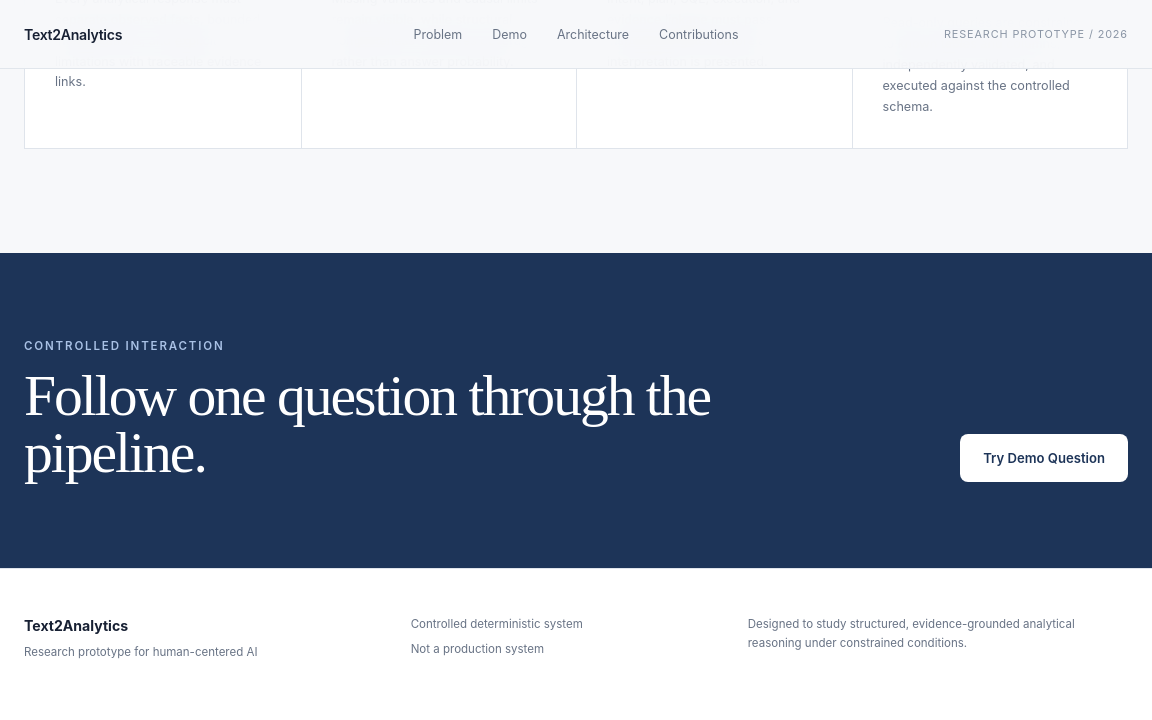
Test: Text2Analytics portfolio page › reveals every required deterministic output
(page scrolled)
Click the button "Try Demo Question": (1044, 458) left=960, top=434, right=1128, bottom=482
(page scrolled)
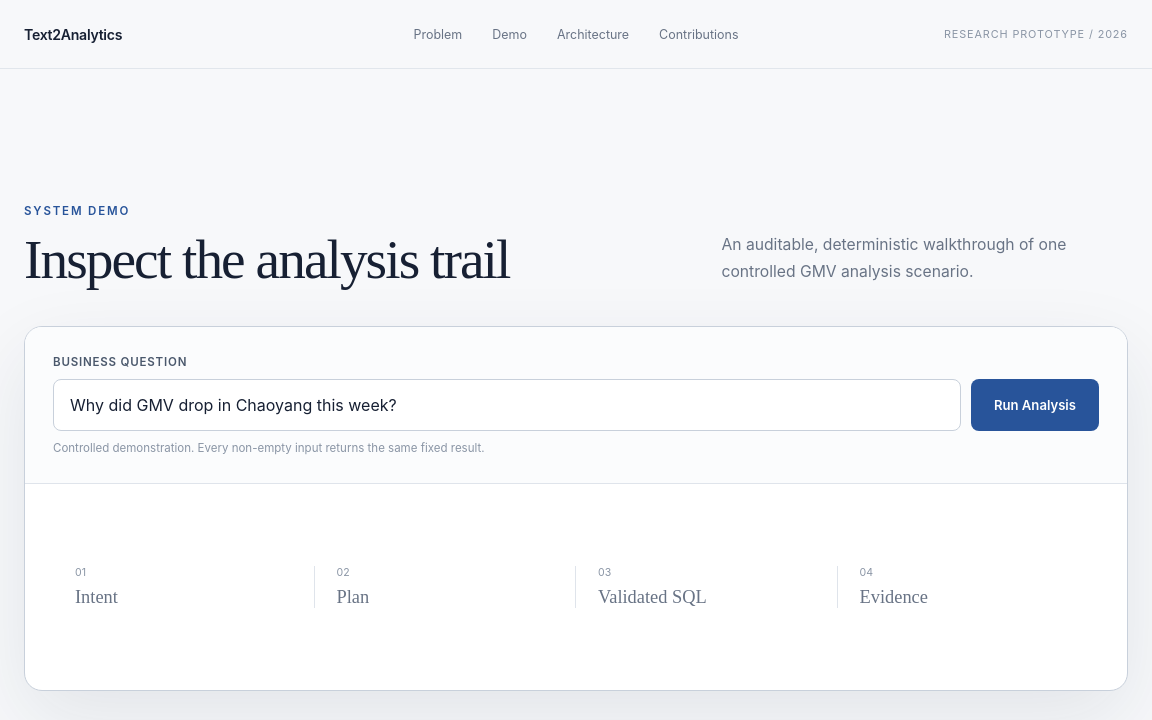
Click the button "Run Analysis": (1035, 405) left=971, top=379, right=1099, bottom=431
(page scrolled)
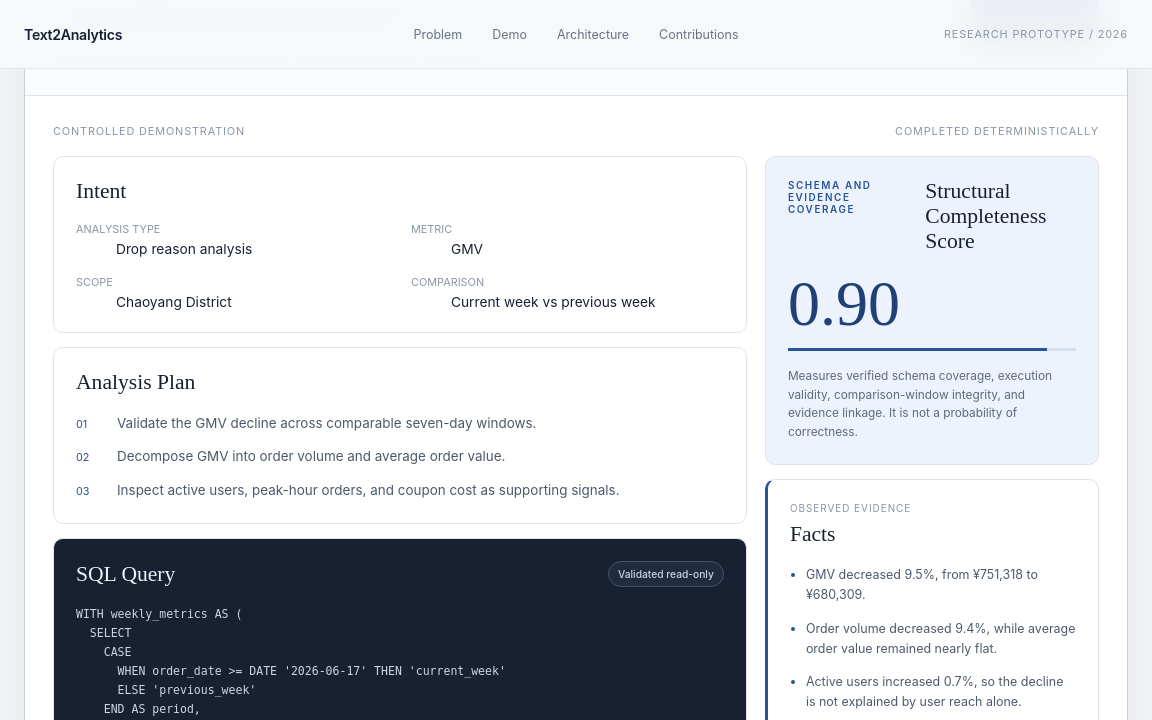
Result: the heading "Structural Completeness Score" is shown at left=925, top=179, right=1046, bottom=253
Result: the heading "Analysis Plan" is shown at left=76, top=370, right=195, bottom=394
Result: the heading "SQL Query" is shown at left=76, top=562, right=175, bottom=587
